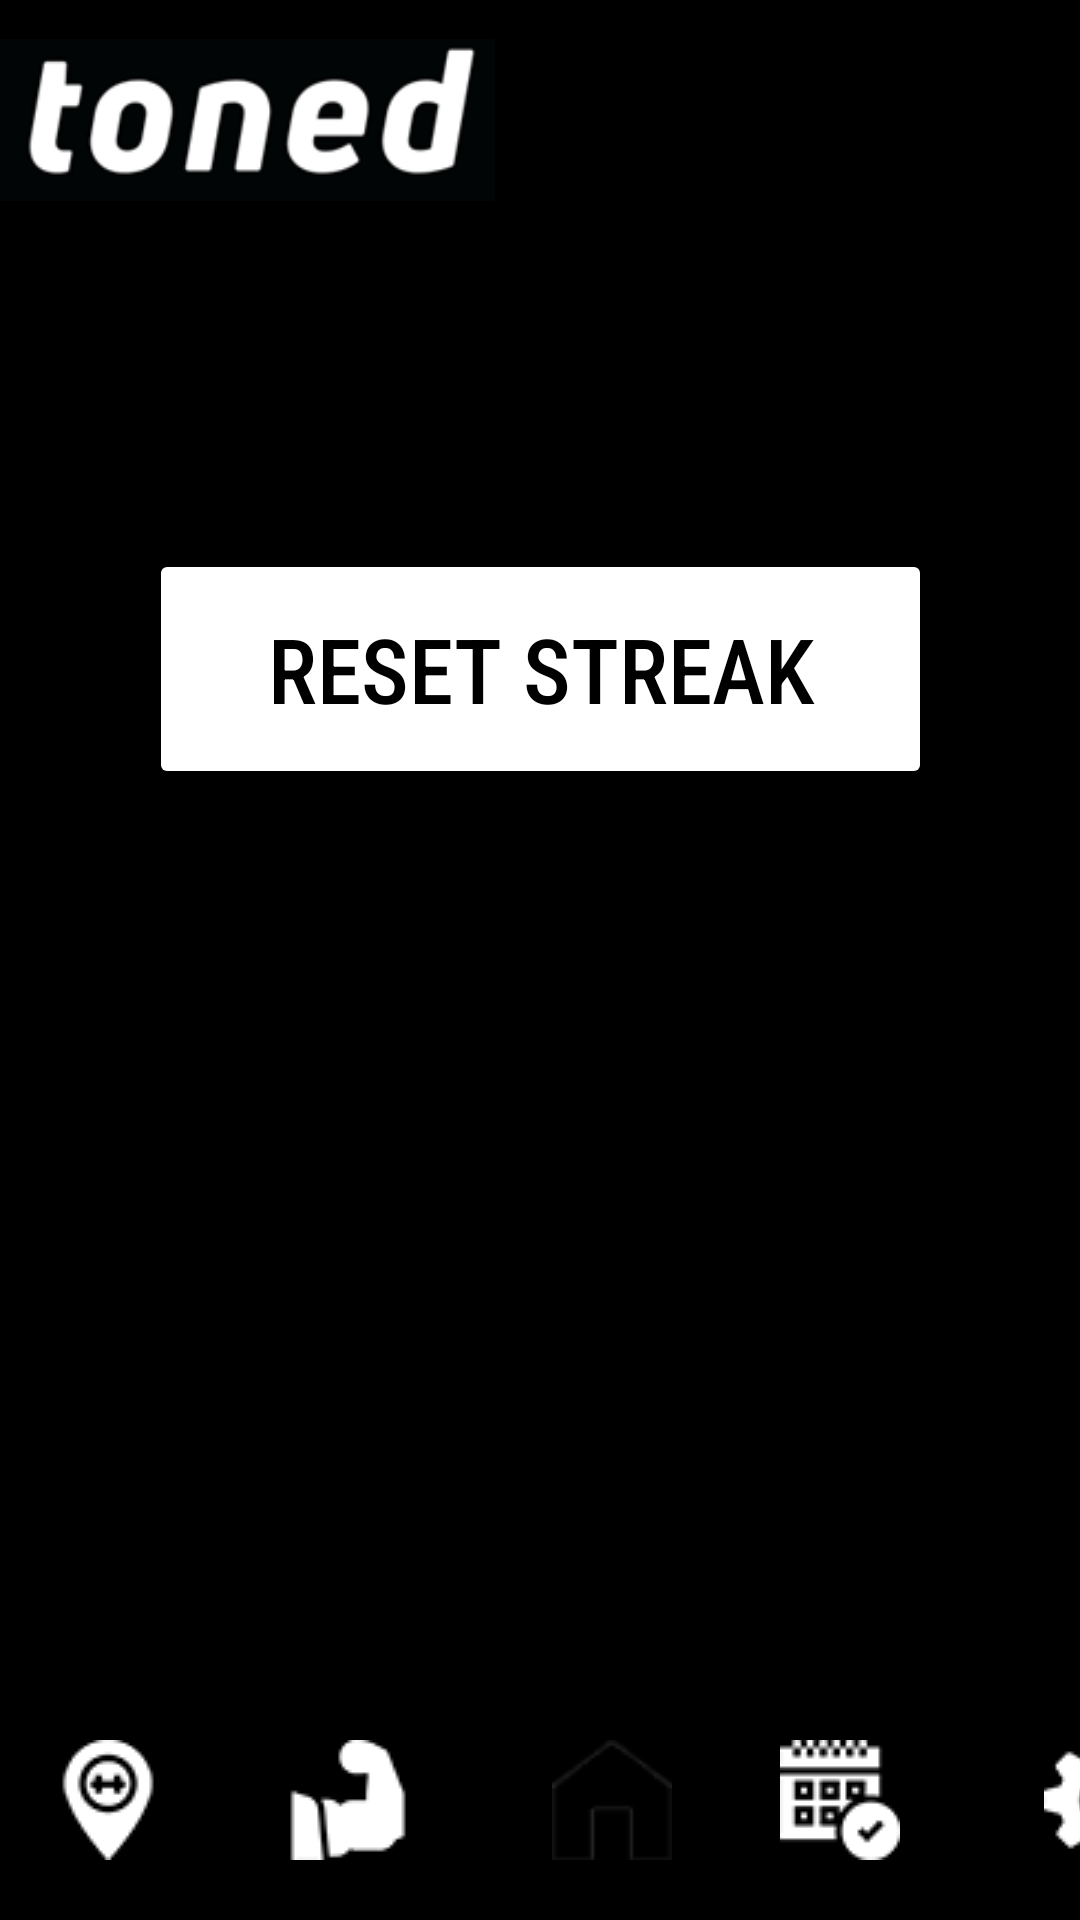

Icon click points for this 1080*1920 phone screenshot, format (x,y):
homeicon: (612,1802)
mapicon: (108,1800)
streakicon: (840,1800)
workouticon: (348,1800)
